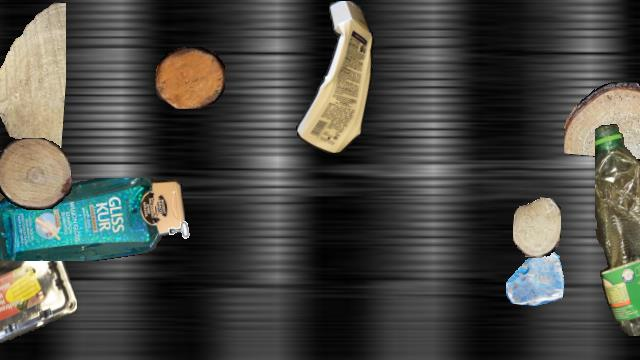glass: (506, 247, 564, 305)
metal: (159, 197, 203, 241)
plastic: (0, 149, 77, 359), (0, 178, 185, 260), (290, 1, 378, 153), (595, 123, 640, 335)
wood: (0, 1, 65, 159), (564, 82, 640, 158), (0, 138, 72, 210), (155, 47, 225, 109), (513, 197, 561, 257)
